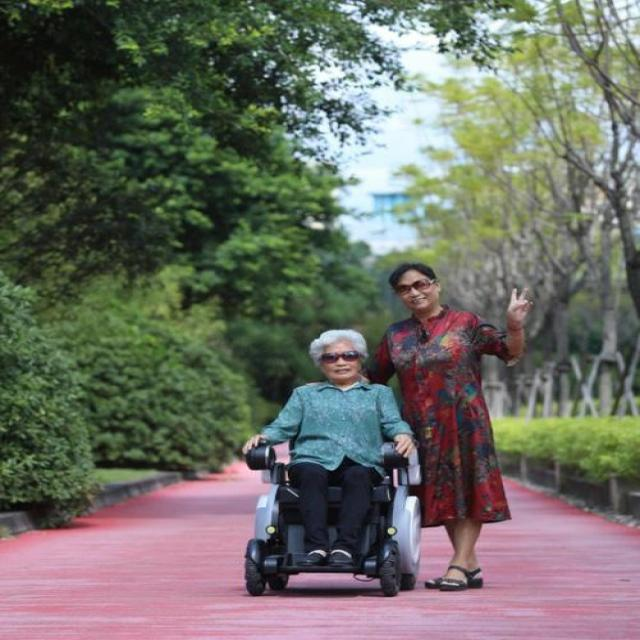wheelchairs: (235, 410, 431, 598)
